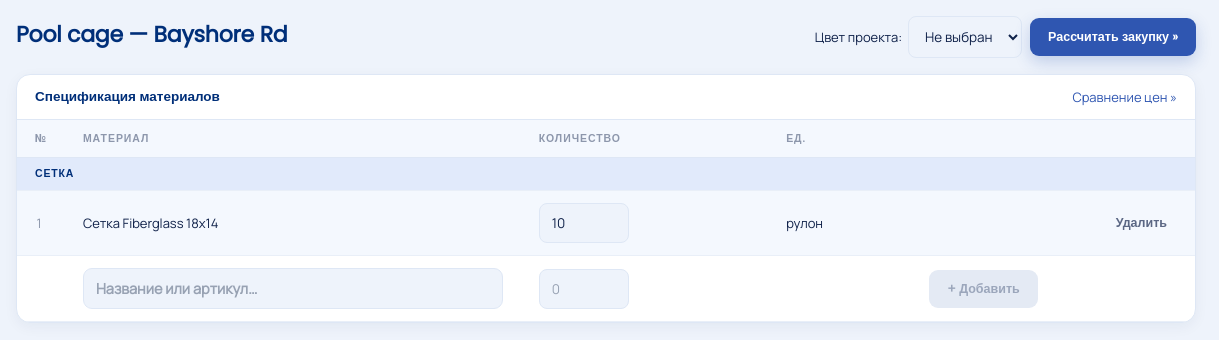
Test: ProjectDetailPage › removes an item after confirming delete
The width and height of the screenshot is (1219, 340).
Expected: the text "Сетка Fiberglass 18x14" is shown, x1=65 y1=190 x2=521 y2=256
Click the button "Удалить": (1141, 223) x1=1106 y1=208 x2=1177 y2=238
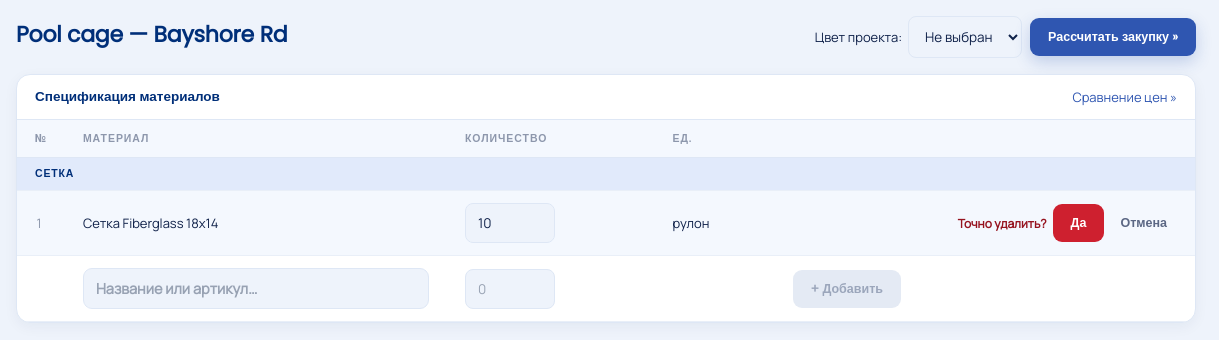
Click the button "Да": (1079, 223) x1=1053 y1=204 x2=1104 y2=242
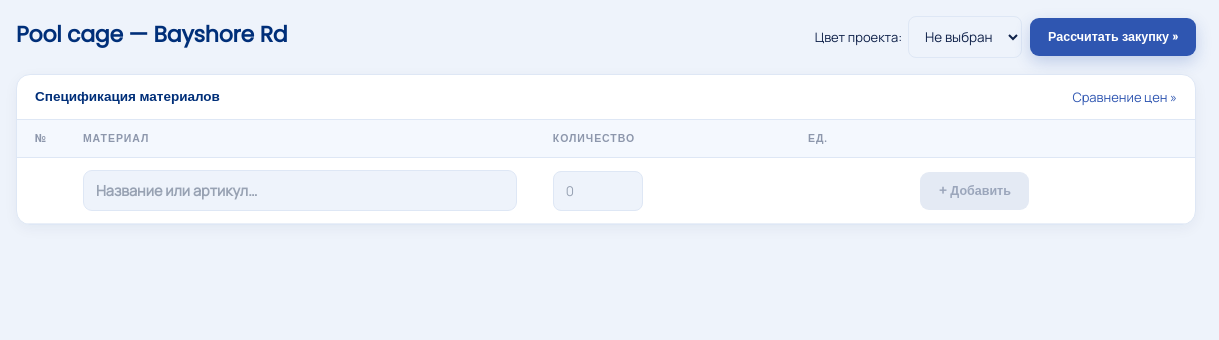
Expected: the dropdown with placeholder "Название или артикул…" is shown, x1=83 y1=170 x2=517 y2=211
Expected: the text "Сетка Fiberglass 18x14" is gone
